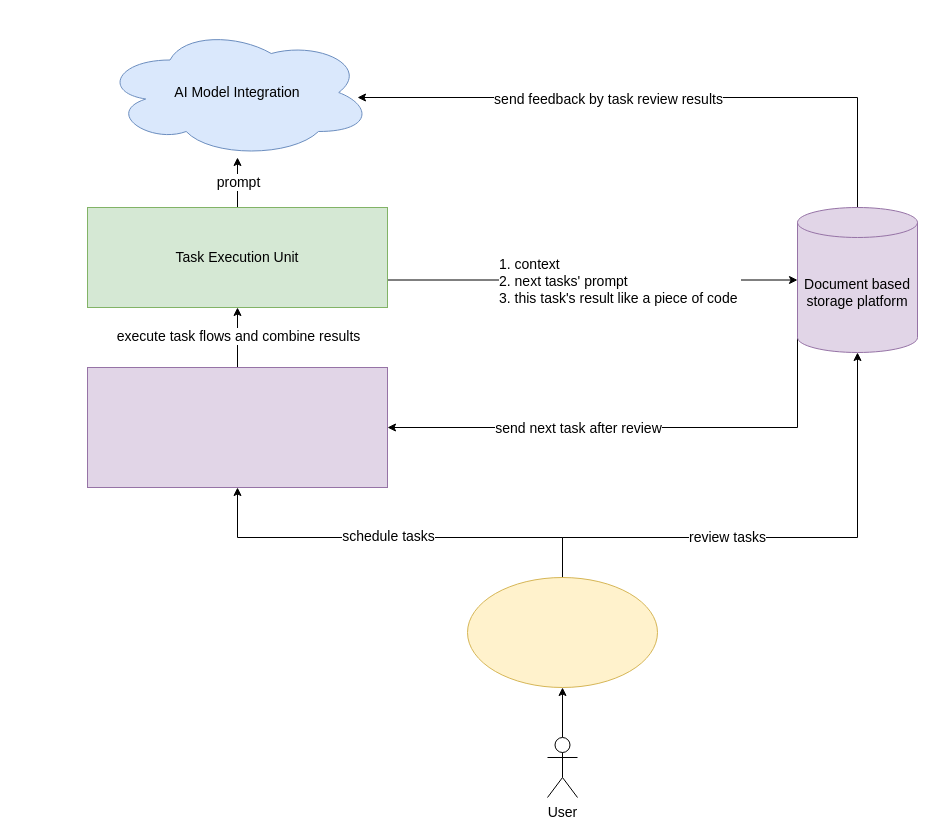
Some shapes in this 935 by 838 pixel diagram are drawn without their labels. The shapes that lost their labels are listed below. From the top down, each one's centre as x and y in pixels, then its label:
At pixel 237 427: "Task Orchestration & Management".
At pixel 562 632: "User interface".
